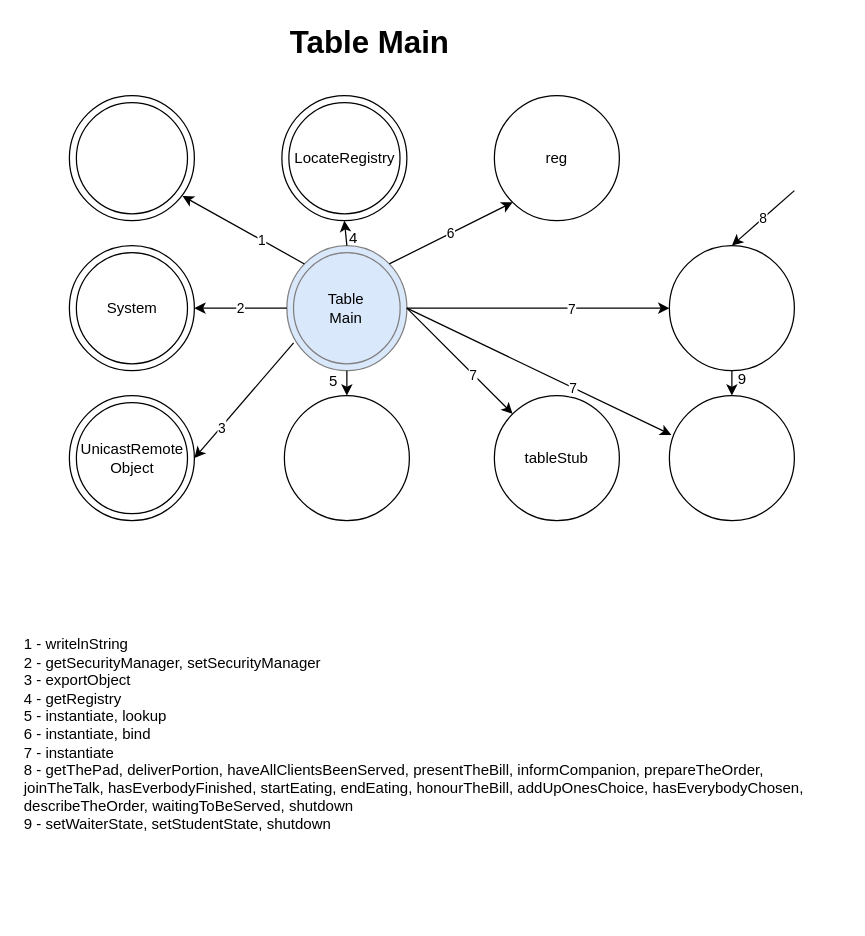
Some shapes in this 865 by 936 pixel diagram are drawn without their labels. The shapes that lost their labels are listed below. From the top down, each one's centre as x and y in pixels, then its label:
[131,157]: GenericIO
[731,307]: table
[346,457]: registry
[731,457]: reposStub
